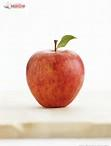apple: (25, 37, 88, 111)
